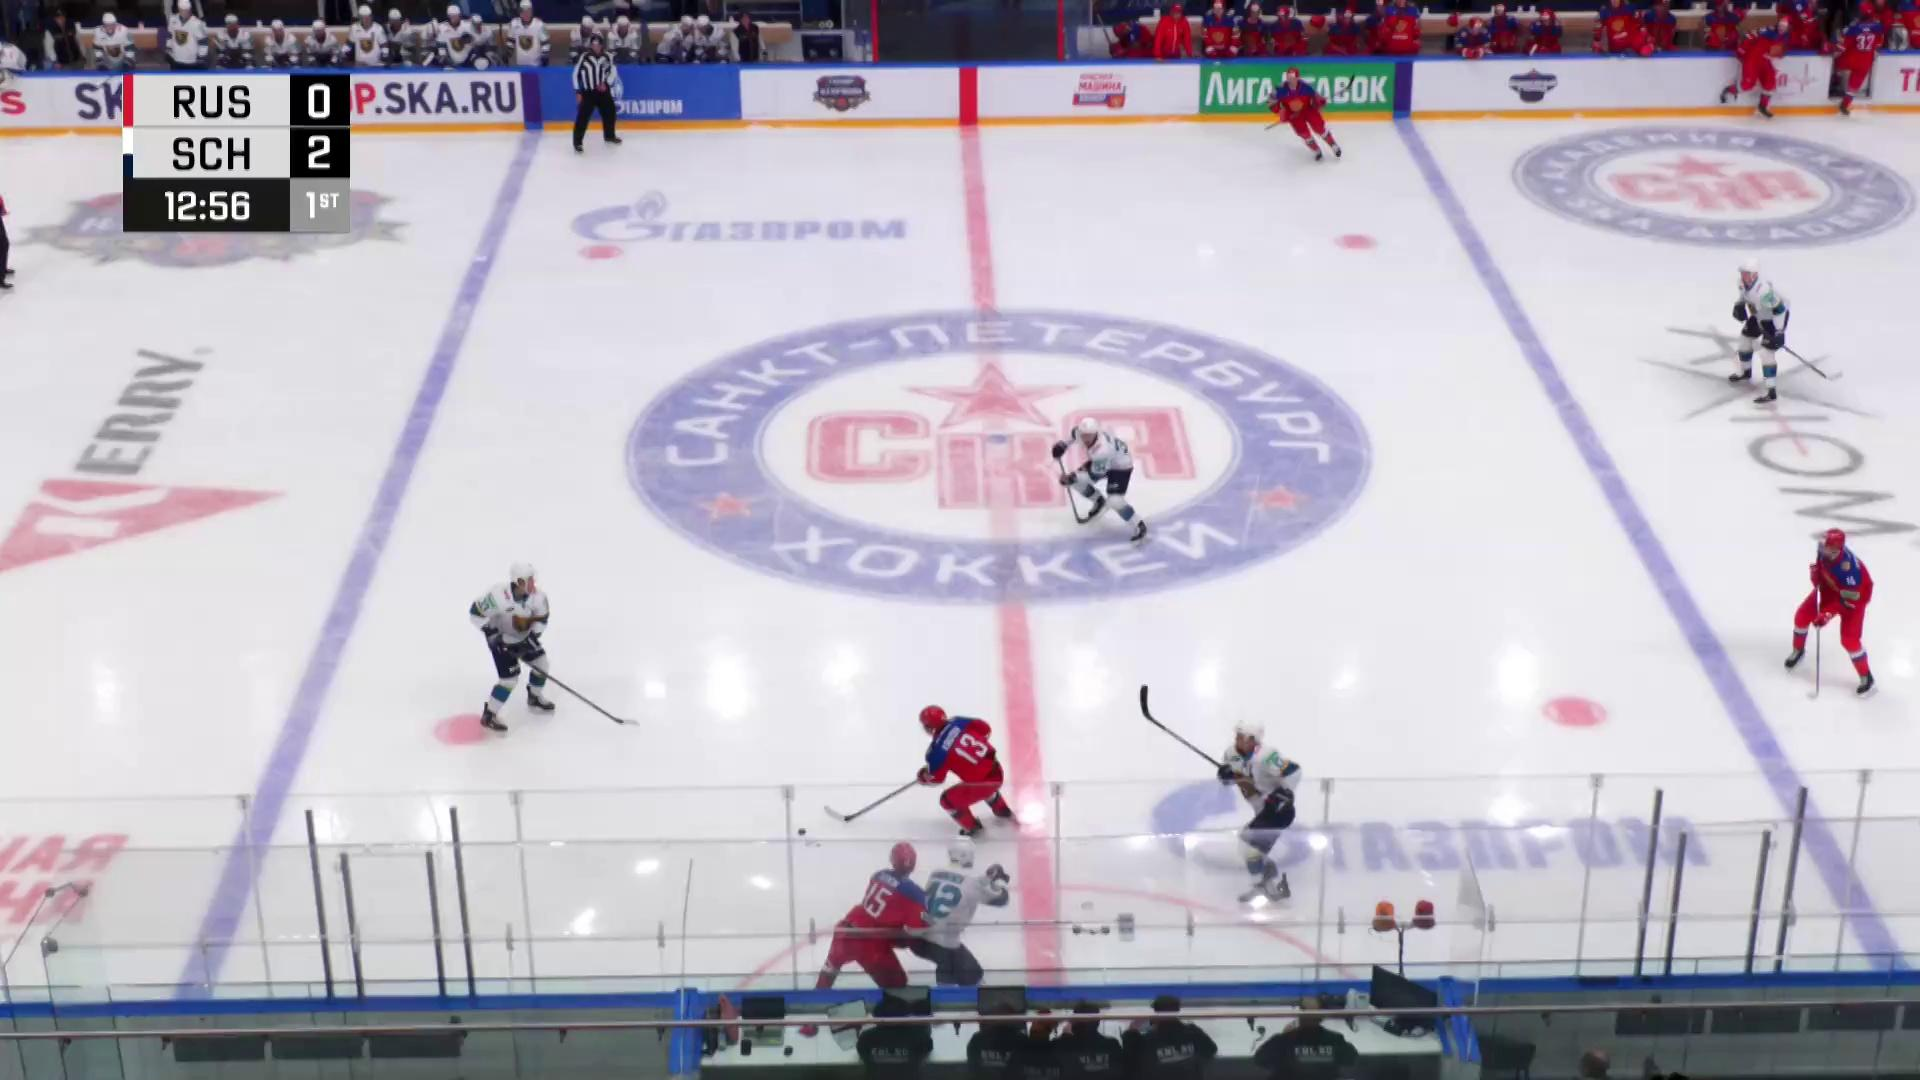ball: (798, 828, 808, 835)
